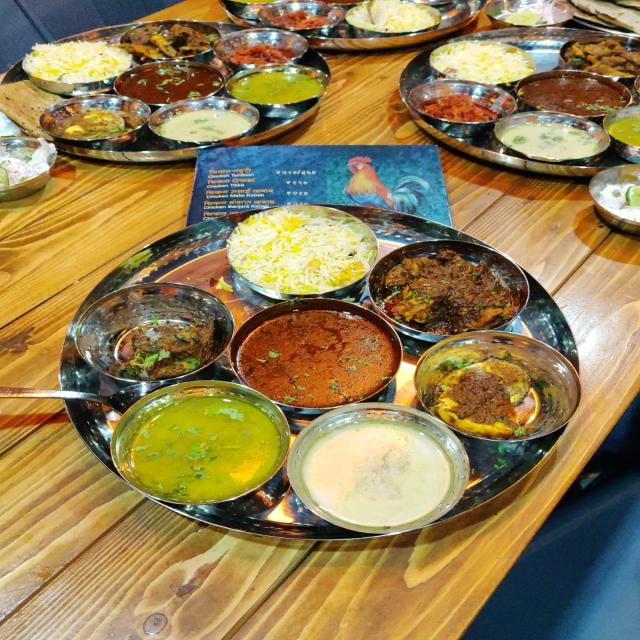non veg meals: (67, 192, 597, 540), (1, 6, 333, 159), (400, 20, 640, 173)
